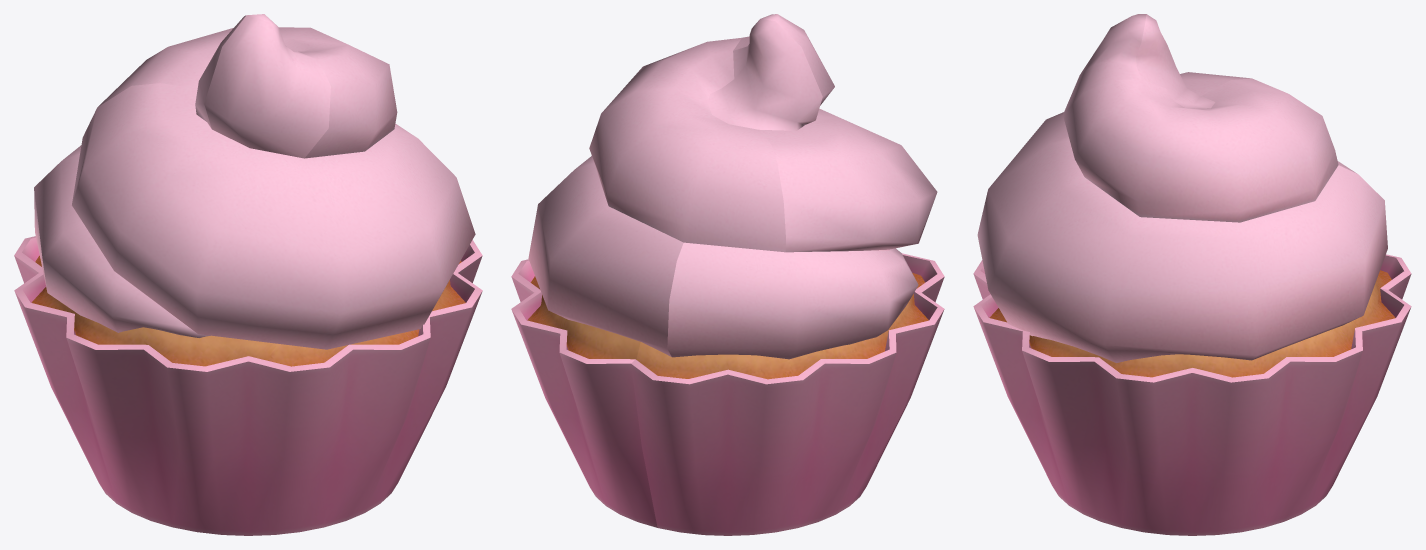
The model's file is Cup Cake 1.fbx.
3 views of the same model, side by side, from view 1: azimuth 30°, elevation 25°; view 2: azimuth 150°, elevation 25°; view 3: azimuth 270°, elevation 25° (orthographic). The views are drawn at different scales.
Parts seen in each view (by area): view 1: CupCake_1; view 2: CupCake_1; view 3: CupCake_1.
Boxes of the visible parts, x1=… form: CupCake_1: x1=14, y1=14, x2=482, y2=535; CupCake_1: x1=511, y1=14, x2=944, y2=535; CupCake_1: x1=973, y1=14, x2=1411, y2=535.
Bounding box in the file's own units: 33.36 × 37.83 × 33.36.
